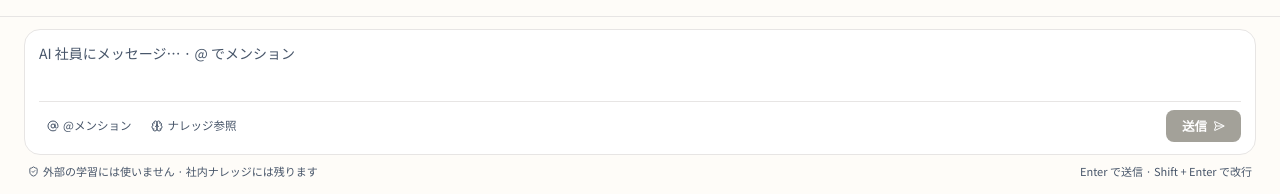
Test: ChatPanel ピッカー (GAP-118 coverage) › closes the picker with Escape
Click the button "@メンション" at coordinates (89, 126), box [39,113,139,139]
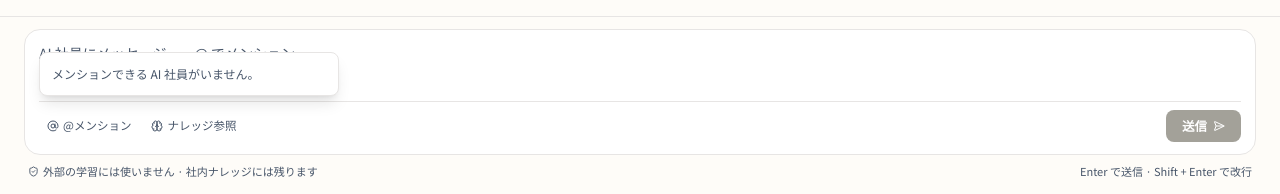
Check: the list "メンションできる AI 社員がいません。" is shown, box [39,52,339,96]
Press Escape
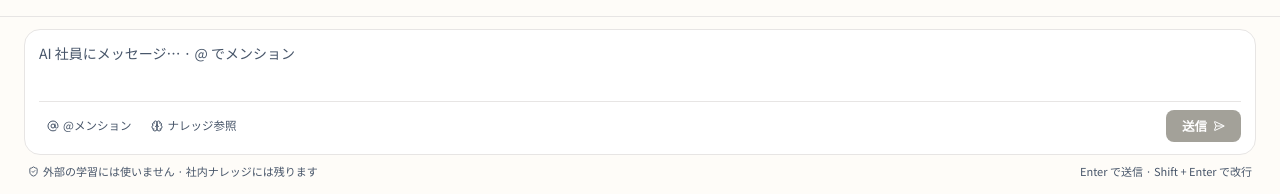
Check: the list "メンションできる AI 社員がいません。" is gone
